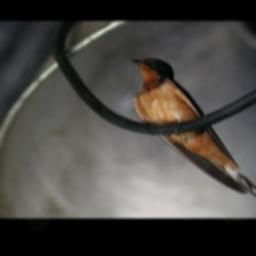Swallow: (124, 54, 256, 206)
